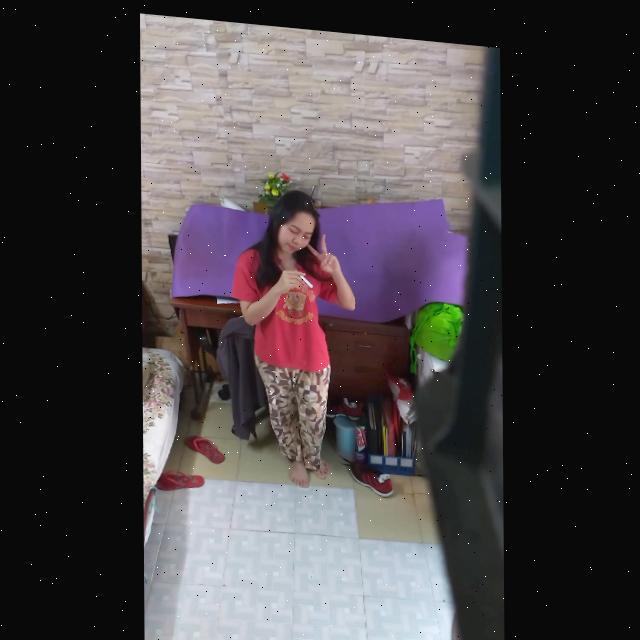cigarette: (294, 264, 313, 282)
